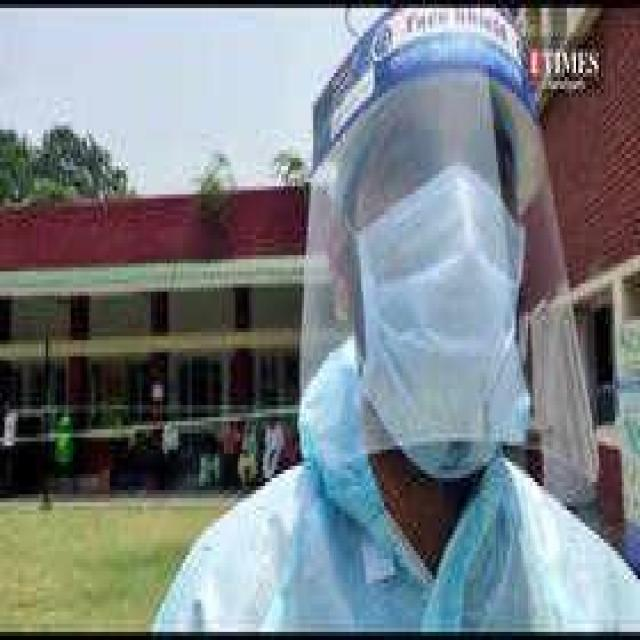Coverall: (128, 4, 619, 628)
Mask: (329, 174, 556, 438)
